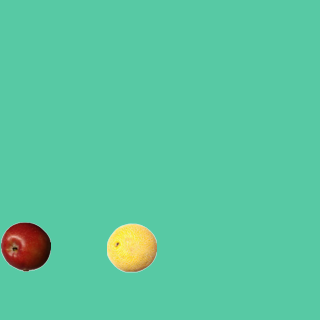Apple Braeburn: (0, 221, 50, 271)
Cantaloupe 1: (106, 222, 156, 272)
